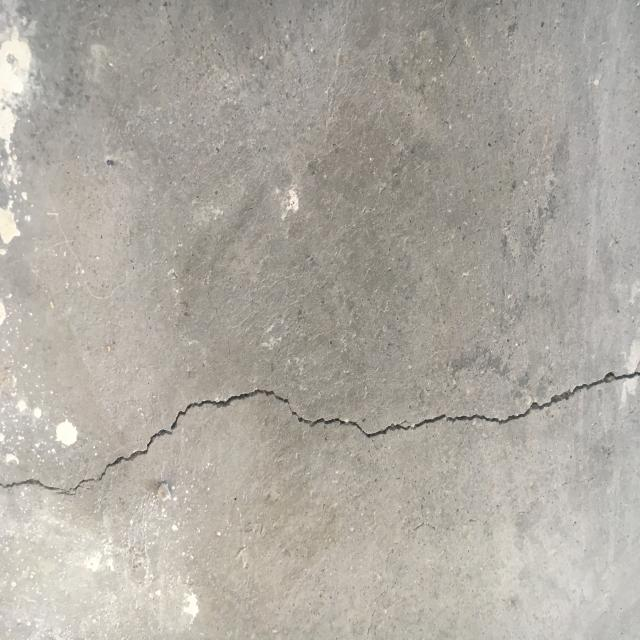Rachadura: (0, 366, 640, 500)
